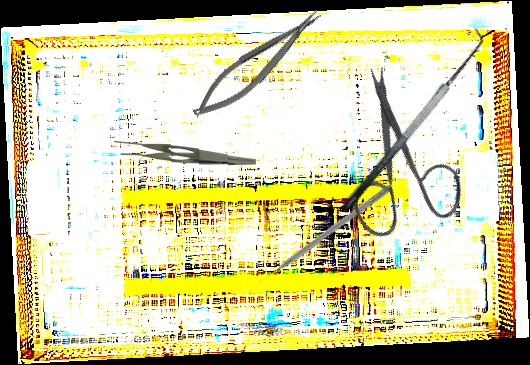Dressing Forceps: (113, 137, 257, 167)
Iris Scissors: (287, 57, 500, 268)
Needle Holder: (183, 3, 333, 127)
Pusher: (255, 182, 393, 287)
Spatula Surgical: (326, 25, 495, 214)
